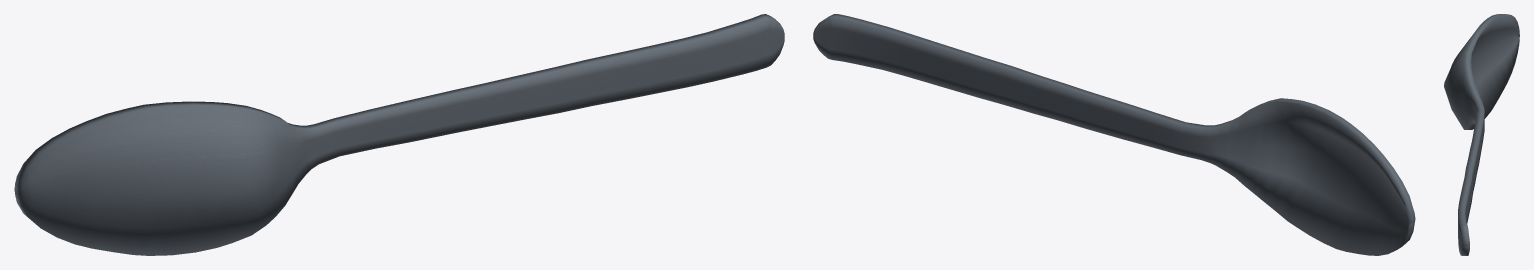
The model's file is mdl_loeffel.fbx.
3 views of the same model, side by side, from view 1: azimuth 30°, elevation 25°; view 2: azimuth 150°, elevation 25°; view 3: azimuth 270°, elevation 25° (orthographic). The views are drawn at different scales.
Visible parts, largest first — view 1: spoon; view 2: spoon; view 3: spoon.
Part boxes in pixels (x1=…): spoon: x1=14, y1=14, x2=784, y2=255; spoon: x1=813, y1=14, x2=1415, y2=255; spoon: x1=1444, y1=14, x2=1519, y2=255.
Size of the model in its own units: 263 by 51.48 by 38.96.
